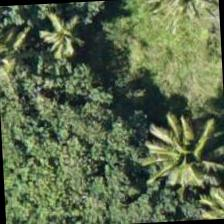Kelapa_Sawit: (134, 107, 223, 204), (17, 0, 111, 84), (142, 107, 223, 203)
